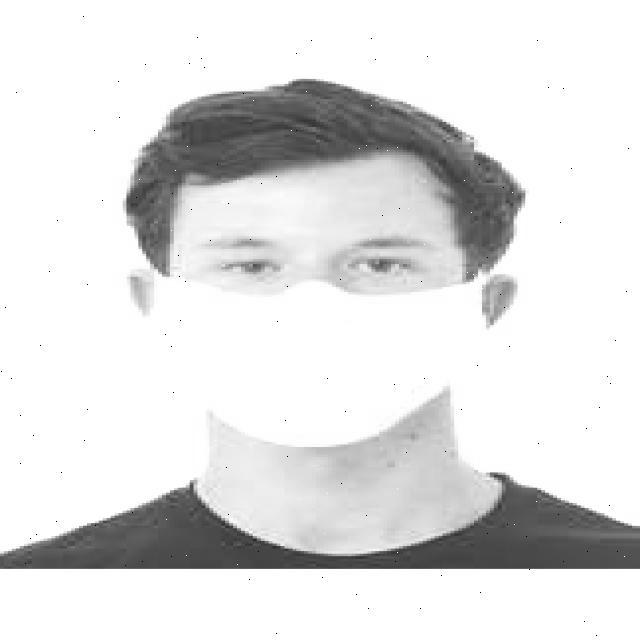fake: (145, 265, 491, 451)
real: (165, 156, 468, 450)
